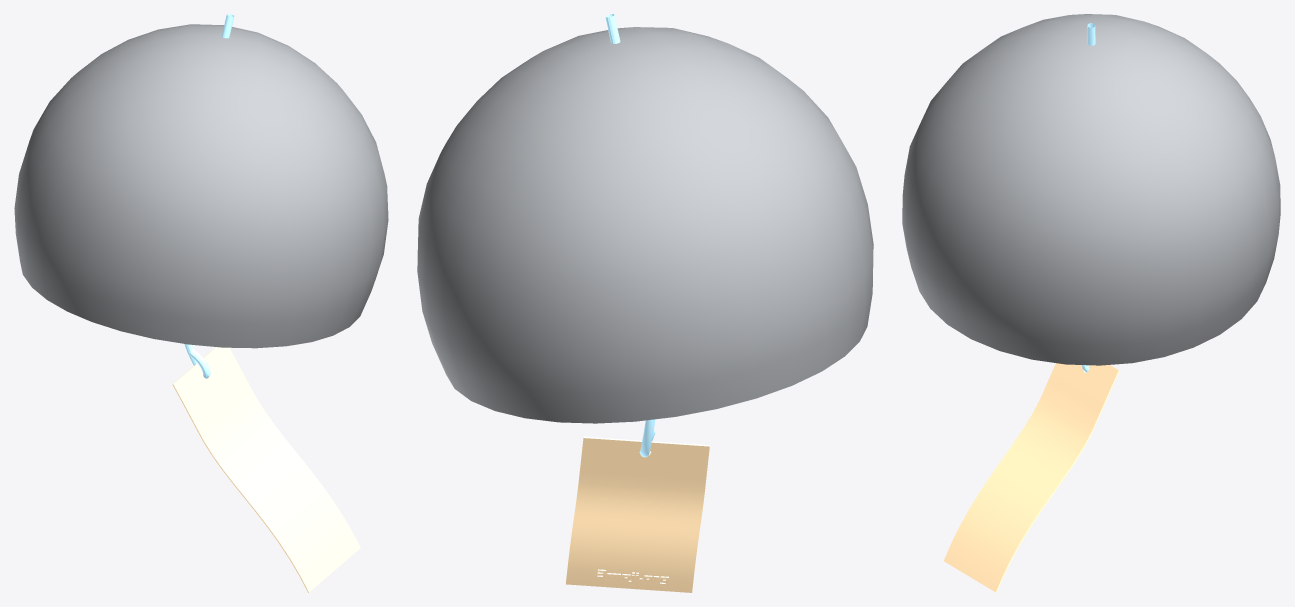
The model's file is wind_chime.gltf.
The picture shows the model from 3 angles, left to right: view 1: azimuth 30°, elevation 25°; view 2: azimuth 150°, elevation 25°; view 3: azimuth 270°, elevation 25°; orthographic projection. The views are drawn at different scales.
Parts seen in each view (by area): view 1: Cube.900; view 2: Cube.900; view 3: Cube.900.
Part boxes in pixels (x1=…): Cube.900: x1=14, y1=14, x2=388, y2=592; Cube.900: x1=417, y1=14, x2=873, y2=592; Cube.900: x1=902, y1=14, x2=1280, y2=592.
Bounding box in the file's own units: 1.43 × 2.23 × 1.43.
Materials: 2 (1 with a texture image).
